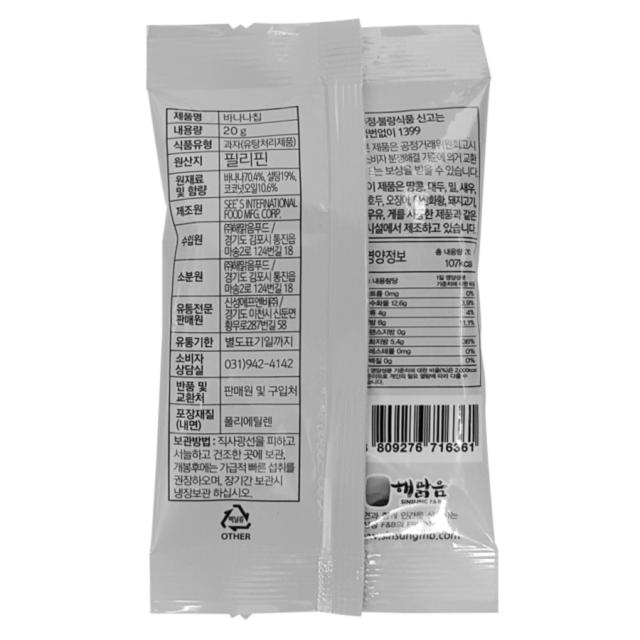Nutrition Label: (362, 235, 486, 394)
